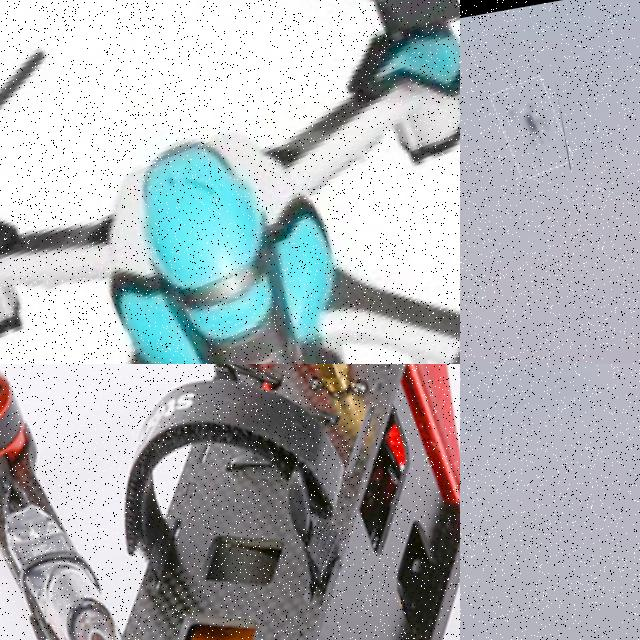0: (493, 75, 571, 180)
drone: (0, 0, 460, 364), (0, 364, 460, 640)
